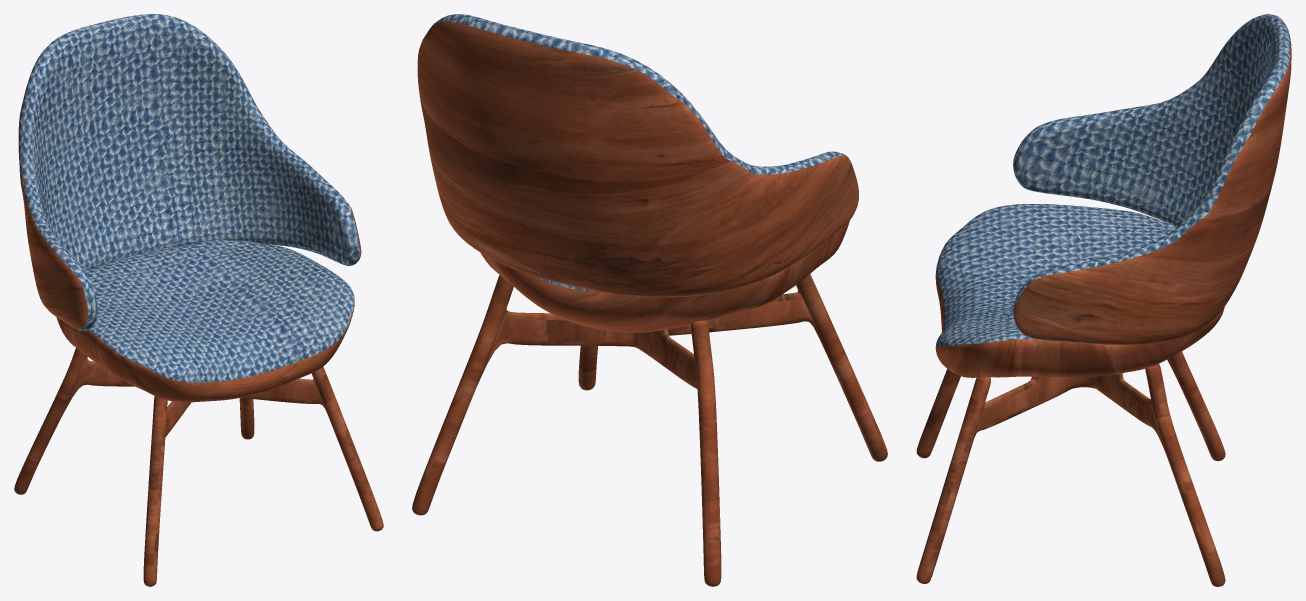
3 views of the same model, side by side, from view 1: azimuth 30°, elevation 25°; view 2: azimuth 150°, elevation 25°; view 3: azimuth 270°, elevation 25° (orthographic). The views are drawn at different scales.
Parts seen in each view (by area): view 1: Chair_Back, Chair_Sit, Chair_Legs; view 2: Chair_Back, Chair_Legs, Chair_Sit; view 3: Chair_Back, Chair_Sit, Chair_Legs.
Boxes of the visible parts, x1,y1,x2,y2 form: Chair_Back: (18, 14, 361, 330); Chair_Sit: (56, 239, 354, 402); Chair_Legs: (14, 348, 383, 586); Chair_Back: (417, 14, 858, 297); Chair_Legs: (412, 274, 887, 586); Chair_Sit: (480, 220, 849, 332); Chair_Back: (1013, 14, 1291, 344); Chair_Sit: (935, 204, 1224, 377); Chair_Legs: (916, 351, 1225, 586).
Size of the model in its own units: 1.72 by 2.47 by 1.74.
2 materials, 2 textured.
